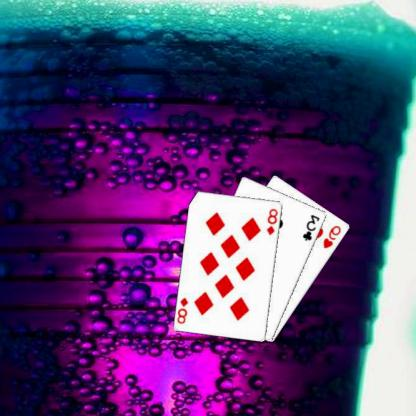3C: (302, 212, 323, 242)
8D: (266, 206, 281, 236), (177, 294, 191, 325)
9H: (322, 222, 344, 250)
